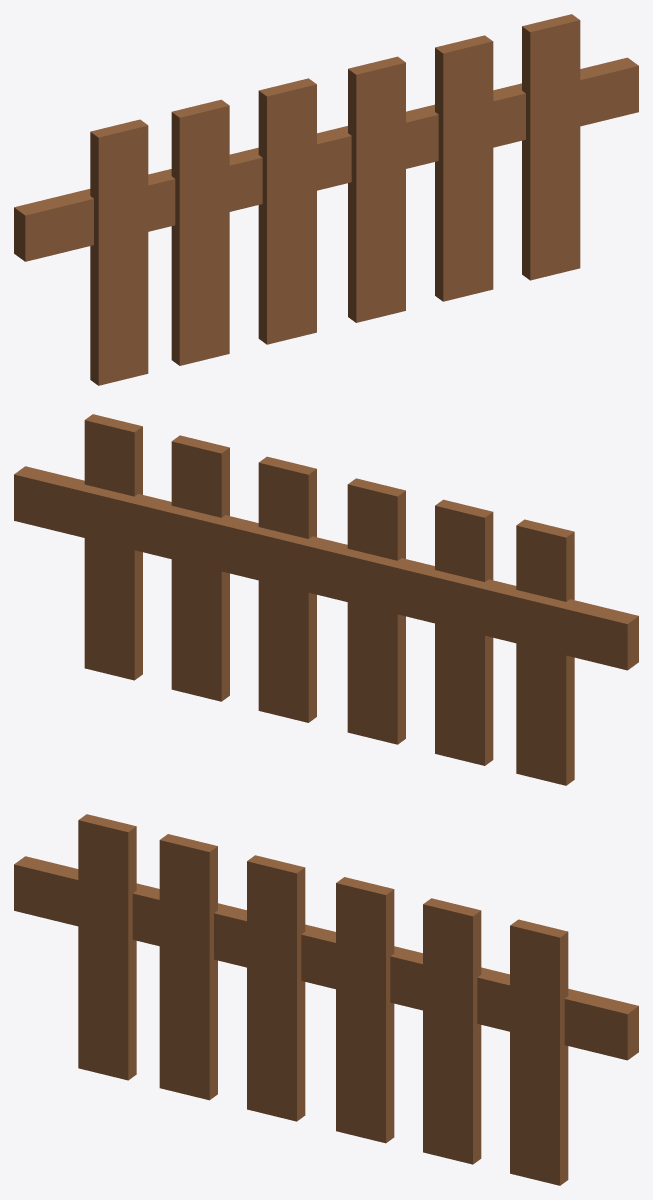
The model's file is Cerca2.fbx.
3 views of the same model, one above another, from view 1: azimuth 30°, elevation 25°; view 2: azimuth 150°, elevation 25°; view 3: azimuth 330°, elevation 25° (orthographic).
Parts seen in each view (by area): view 1: Madeira.001, Madeira.003, Madeira.007, Madeira.002, Madeira.004, Madeira.005, Madeira; view 2: Madeira.001, Madeira, Madeira.002, Madeira.003, Madeira.005, Madeira.007, Madeira.004; view 3: Madeira.001, Madeira.007, Madeira.004, Madeira, Madeira.003, Madeira.005, Madeira.002.
Part boxes in pixels (box(x1,y1,x2,y2)): Madeira.001: box(14, 57, 638, 261); Madeira.003: box(435, 35, 493, 301); Madeira.007: box(90, 119, 148, 385); Madeira.002: box(522, 14, 580, 280); Madeira.004: box(171, 99, 229, 365); Madeira.005: box(258, 78, 316, 344); Madeira: box(348, 56, 405, 322); Madeira.001: box(14, 466, 638, 670); Madeira: box(258, 456, 316, 722); Madeira.002: box(84, 414, 142, 680); Madeira.003: box(171, 435, 229, 701); Madeira.005: box(347, 478, 405, 744); Madeira.007: box(516, 519, 574, 785); Madeira.004: box(435, 499, 493, 765); Madeira.001: box(14, 856, 638, 1060); Madeira.007: box(78, 814, 136, 1080); Madeira.004: box(159, 834, 217, 1100); Madeira: box(336, 877, 394, 1143); Madeira.003: box(423, 898, 481, 1164); Madeira.005: box(247, 855, 305, 1121); Madeira.002: box(510, 919, 568, 1185).
Bounding box in the file's own units: 830 × 321 × 36.82.
